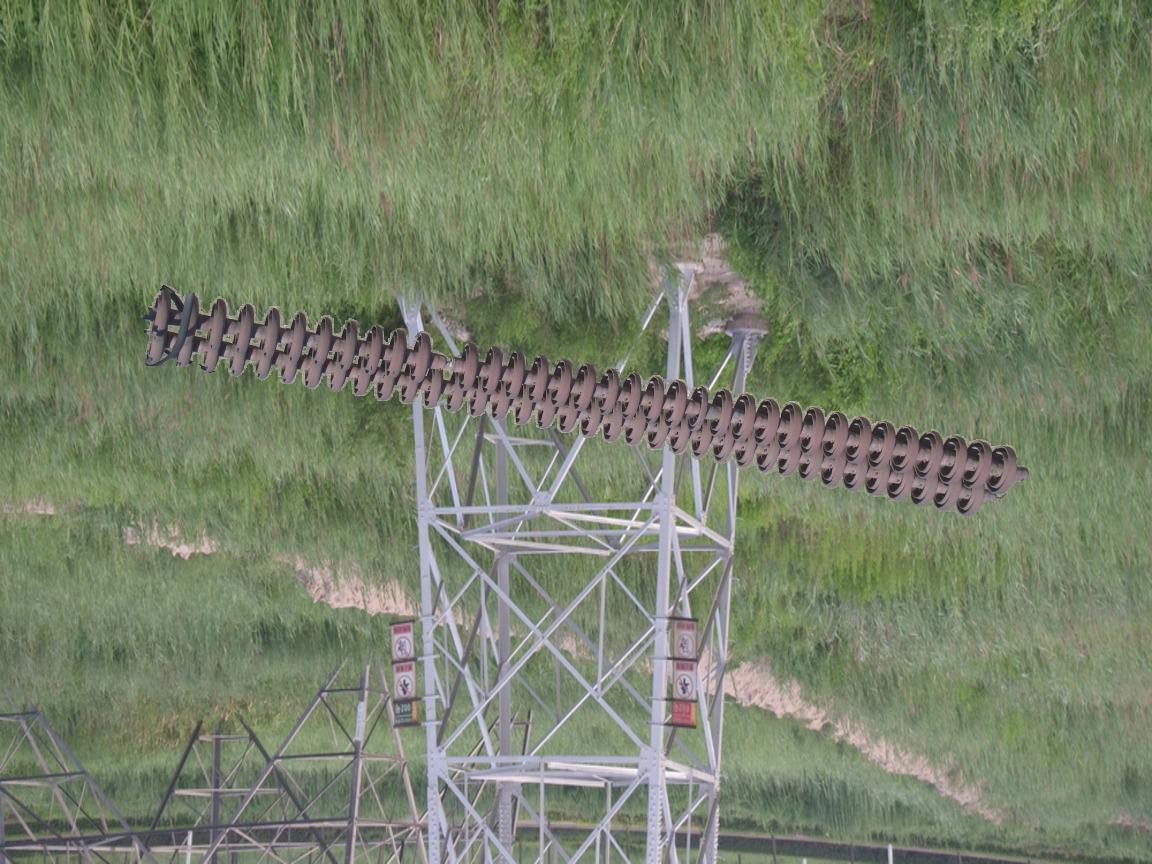insulator: (141, 285, 1024, 520)
insulator_stringdrop: (406, 330, 481, 391)
